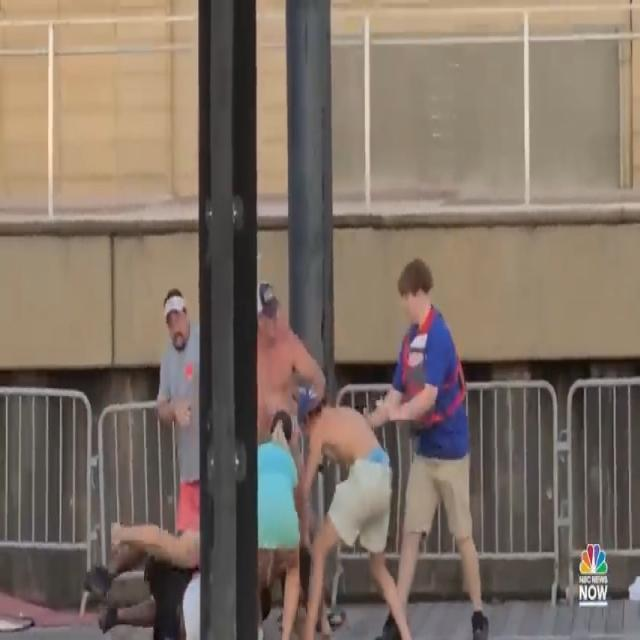fight: (79, 277, 407, 638)
non-fight: (361, 247, 493, 640), (154, 265, 200, 533)
